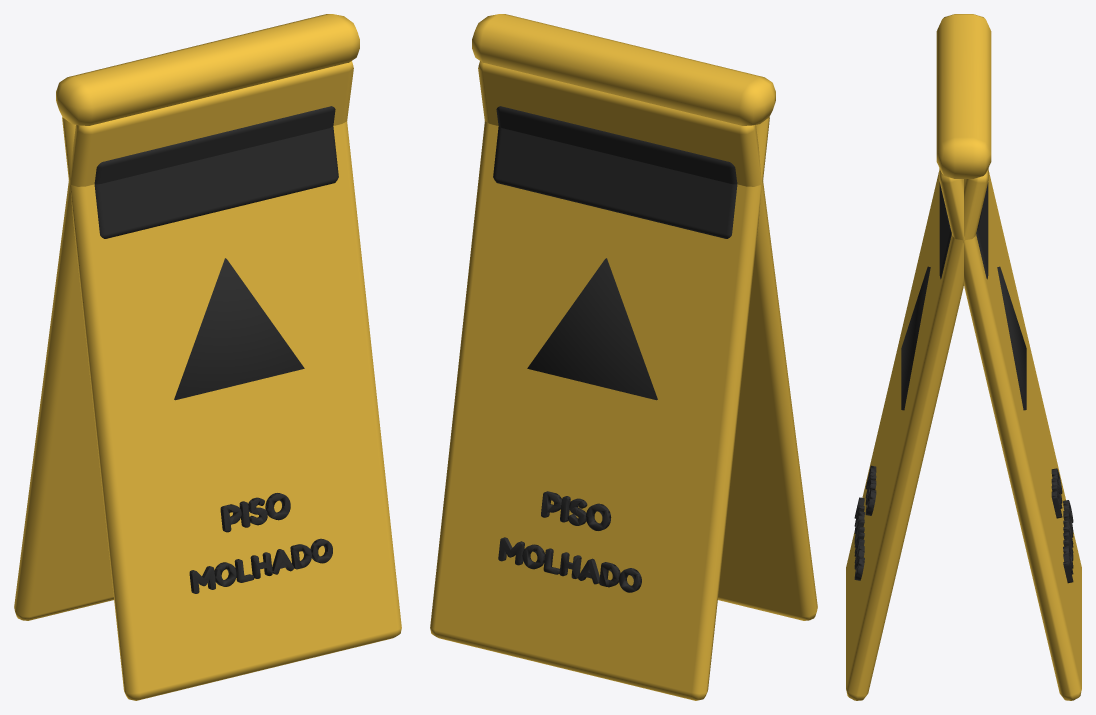
The model's file is staff-wetsign.fbx.
3 renders of one model, left to right at view 1: azimuth 30°, elevation 25°; view 2: azimuth 150°, elevation 25°; view 3: azimuth 270°, elevation 25°, orthographic. The views are drawn at different scales.
Visible parts, largest first — view 1: Body; view 2: Body; view 3: Body.
Part boxes in pixels (bbox=[...]): Body: bbox=[14, 14, 401, 700]; Body: bbox=[430, 14, 817, 700]; Body: bbox=[846, 14, 1081, 700].
Size of the model in its own units: 0.36 by 0.6853 by 0.2598.
